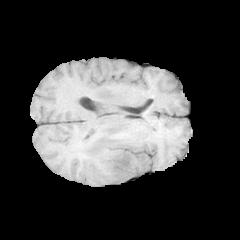glioma: (79, 114, 145, 182)
